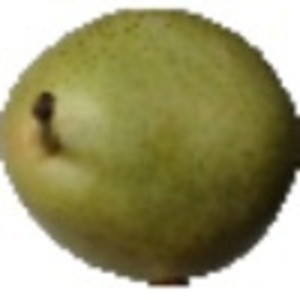pera: (1, 5, 300, 290)
